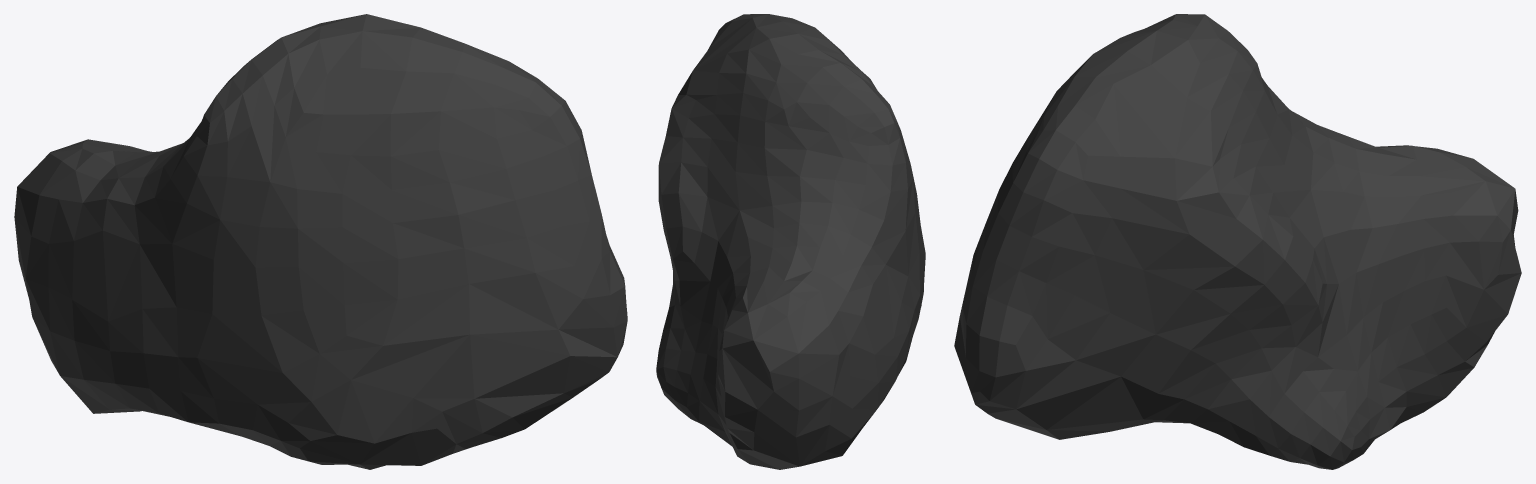
Rendered from C_radial_bone_C_radial_bone.glb.
The picture shows the model from 3 angles, left to right: view 1: azimuth 30°, elevation 25°; view 2: azimuth 150°, elevation 25°; view 3: azimuth 270°, elevation 25°; orthographic projection. The views are drawn at different scales.
Visible parts, largest first — view 1: C_radial_bone_C_radial_bone; view 2: C_radial_bone_C_radial_bone; view 3: C_radial_bone_C_radial_bone.
Boxes of the visible parts, box(x1,y1,x2,y2) form: C_radial_bone_C_radial_bone: box(14, 14, 627, 469); C_radial_bone_C_radial_bone: box(656, 14, 925, 469); C_radial_bone_C_radial_bone: box(954, 14, 1521, 469).
Size of the model in its own units: 0.0566 by 0.063 by 0.0759.
Materials: 1 (1 with a texture image).
